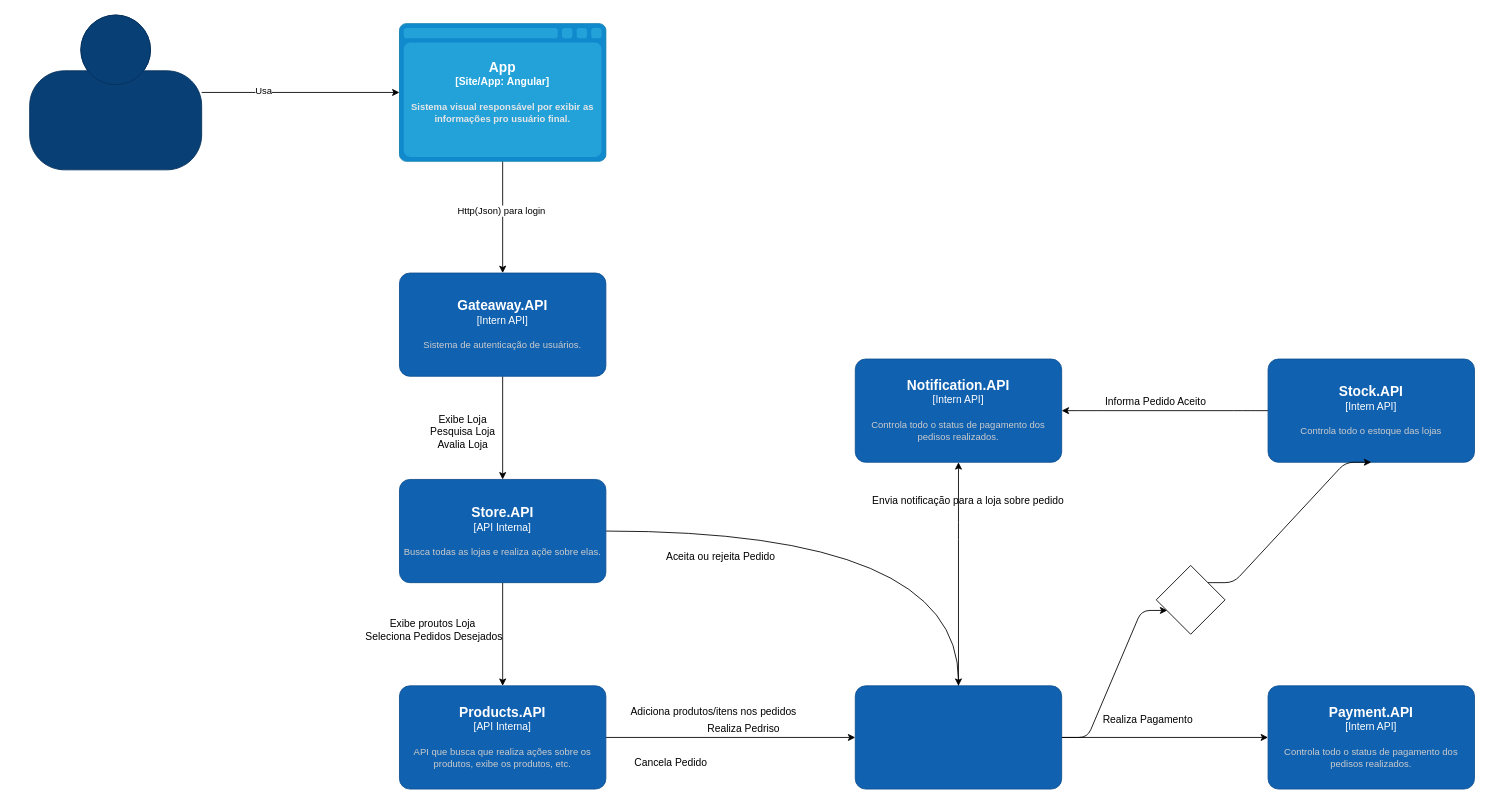
This 1490x804 diagram has some shape labels left out. The centre of each missing label's shape, as x and y in pixels:
Order.API [Intern API] Realiza os pedidos dos clientes e controla os status.: [958,737]
Pedido Aceito?: [1190,599]
User Client [User] Pessoa que realiza as compras pela plataforma.: [115,92]
